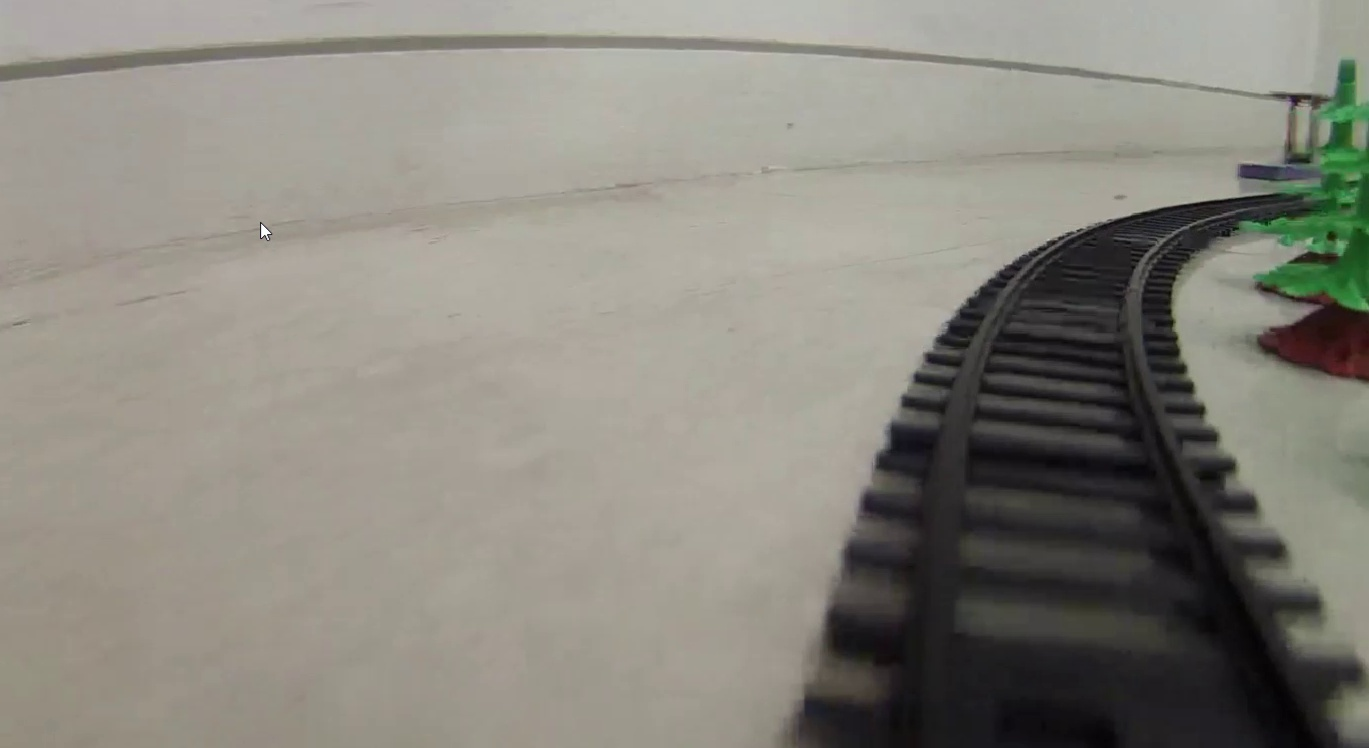tree: (1277, 60, 1369, 382)
